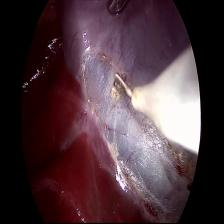Grasper: (104, 0, 130, 22)
Hook: (111, 63, 204, 149)
